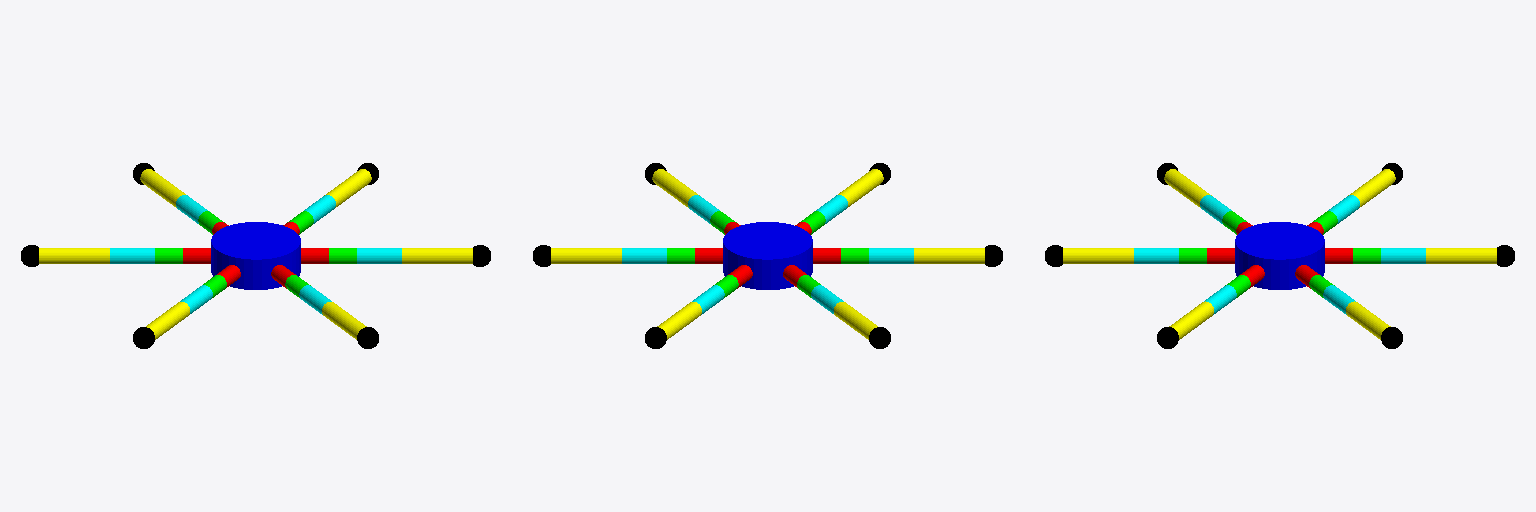
robot.urdf — hexapod:

<robot name="hexapod">

  <link name="body">
    <visual>
      <geometry>
        <cylinder radius="0.08" length="0.06"/>
      </geometry>
      <origin xyz="0 0 0"/>
      <material name="blue">
        <color rgba="0 0 1 1"/>
      </material>
    </visual>
    <collision>
      <geometry>
        <cylinder radius="0.08" length="0.06"/>
      </geometry>
      <origin xyz="0 0 0"/>
    </collision>
    <inertial>
      <mass value="0.01"/>
      <inertia ixx="0" ixy="0.0" ixz="0.0" iyy="0" iyz="0.0" izz="0"/>
    </inertial>
  </link>


  <link name="a1">
    <visual>
      <geometry>
        <cylinder radius="0.015" length="0.05"/>
      </geometry>
      <origin rpy="1.57 0 0" xyz="0 0.025 0" />
      <material name="red">
        <color rgba="1 0 0 1"/>
      </material>
    </visual>
    <collision>
      <geometry>
        <cylinder radius="0.015" length="0.05"/>
      </geometry>
      <origin rpy="1.57 0 0" xyz="0 0.025 0" />
    </collision>
    <inertial>
      <mass value="0.1"/>
      <inertia ixx="0" ixy="0.0" ixz="0.0" iyy="0" iyz="0.0" izz="0"/>
    </inertial>
  </link>

  <joint name="a1_to_body" type="fixed">
    <origin rpy="0 0 0" xyz="0 0.08 0"/>
    <parent link="body"/>
    <child link="a1"/>
  </joint>

  <!-- B -->

  <link name="b1">
    <visual>
      <geometry>
        <cylinder radius="0.015" length="0.05"/>
      </geometry>
      <origin rpy="1.57 0 0" xyz="0 0.025 0" />
      <material name="green">
        <color rgba="0 1 0 1"/>
      </material>
    </visual>
    <collision>
      <geometry>
        <cylinder radius="0.015" length="0.05"/>
      </geometry>
      <origin rpy="1.57 0 0" xyz="0 0.025 0" />
    </collision>
    <inertial>
      <mass value="0.1"/>
      <inertia ixx="0" ixy="0.0" ixz="0.0" iyy="0" iyz="0.0" izz="0"/>
    </inertial>

  </link>

  <joint name="u1" type="continuous">
    <origin rpy="0 0 0" xyz="0 0.05 0"/>
    <parent link="a1"/>
    <child link="b1"/>
    <axis xyz="0 0 1"/>
    <limit effort="1000" lower="-1.57" upper="1.57" velocity="1000"/>
  </joint>

  <link name="c1">
    <visual>
      <geometry>
        <cylinder radius="0.015" length="0.08"/>
      </geometry>
      <origin rpy="1.57 0 0" xyz="0 0.04 0" />
      <material name="cyan">
        <color rgba="0 1 1 1"/>
      </material>
    </visual>
    <collision>
      <geometry>
        <cylinder radius="0.015" length="0.08"/>
      </geometry>
      <origin rpy="1.57 0 0" xyz="0 0.04 0" />
    </collision>
    <inertial>
      <mass value="0.1"/>
      <inertia ixx="0" ixy="0.0" ixz="0.0" iyy="0" iyz="0.0" izz="0"/>
    </inertial>

  </link>

  <joint name="v1" type="continuous">
    <origin rpy="0 0 0" xyz="0 0.05 0"/>
    <parent link="b1"/>
    <child link="c1"/>
    <axis xyz="1 0 0"/>
    <limit effort="1000" lower="-1.57" upper="1.57" velocity="1000"/>
  </joint>

  <link name="d1">
    <visual>
      <geometry>
        <cylinder radius="0.015" length="0.14"/>
      </geometry>
      <origin rpy="1.57 0 0" xyz="0 0.07 0" />
      <material name="jaune">
        <color rgba="1 1 0 1"/>
      </material>
    </visual>
    <collision>
      <geometry>
        <cylinder radius="0.015" length="0.14"/>
      </geometry>
      <origin rpy="1.57 0 0" xyz="0 0.07 0" />
    </collision>
    <inertial>
      <mass value="0.1"/>
      <inertia ixx="0" ixy="0.0" ixz="0.0" iyy="0" iyz="0.0" izz="0"/>
    </inertial>

  </link>

  <joint name="w1" type="continuous">
    <origin rpy="0 0 0" xyz="0 0.08 0"/>
    <parent link="c1"/>
    <child link="d1"/>
    <axis xyz="1 0 0"/>
    <limit effort="1000" lower="-3.14159" upper="1.57" velocity="1000"/>
  </joint>

  <link name="e1">
    <visual>
      <geometry>
        <sphere radius="0.02"/>
      </geometry>
      <origin rpy="0 0 0" xyz="0 0 0" />
      <material name="noir">
        <color rgba="0 0 0 1"/>
      </material>
    </visual>
    <collision>
      <geometry>
        <sphere radius="0.02"/>
      </geometry>
      <origin rpy="0 0 0" xyz="0 0 0" />
    </collision>
    <inertial>
      <mass value="0.01"/>
      <inertia ixx="0" ixy="0.0" ixz="0.0" iyy="0" iyz="0.0" izz="0"/>
    </inertial>

  </link>

  <joint name="x1" type="fixed">
    <origin rpy="0 0 0" xyz="0 0.14 0"/>
    <parent link="d1"/>
    <child link="e1"/>
  </joint>


  <link name="a2">
    <visual>
      <geometry>
        <cylinder radius="0.015" length="0.05"/>
      </geometry>
      <origin rpy="1.57 0 0" xyz="0 0.025 0" />
      <material name="red">
        <color rgba="1 0 0 1"/>
      </material>
    </visual>
    <collision>
      <geometry>
        <cylinder radius="0.015" length="0.05"/>
      </geometry>
      <origin rpy="1.57 0 0" xyz="0 0.025 0" />
    </collision>
    <inertial>
      <mass value="0.1"/>
      <inertia ixx="0" ixy="0.0" ixz="0.0" iyy="0" iyz="0.0" izz="0"/>
    </inertial>
  </link>

  <joint name="a2_to_body" type="fixed">
    <origin rpy="0 0 -1.0472" xyz="0.069 0.04 0"/>
    <parent link="body"/>
    <child link="a2"/>
  </joint>

  <!-- B -->

  <link name="b2">
    <visual>
      <geometry>
        <cylinder radius="0.015" length="0.05"/>
      </geometry>
      <origin rpy="1.57 0 0" xyz="0 0.025 0" />
      <material name="green">
        <color rgba="0 1 0 1"/>
      </material>
    </visual>
    <collision>
      <geometry>
        <cylinder radius="0.015" length="0.05"/>
      </geometry>
      <origin rpy="1.57 0 0" xyz="0 0.025 0" />
    </collision>
    <inertial>
      <mass value="0.1"/>
      <inertia ixx="0" ixy="0.0" ixz="0.0" iyy="0" iyz="0.0" izz="0"/>
    </inertial>

  </link>

  <joint name="u2" type="continuous">
    <origin rpy="0 0 0" xyz="0 0.05 0"/>
    <parent link="a2"/>
    <child link="b2"/>
    <axis xyz="0 0 1"/>
    <limit effort="1000" lower="-1.57" upper="1.57" velocity="1000"/>
  </joint>

  <link name="c2">
    <visual>
      <geometry>
        <cylinder radius="0.015" length="0.08"/>
      </geometry>
      <origin rpy="1.57 0 0" xyz="0 0.04 0" />
      <material name="cyan">
        <color rgba="0 1 1 1"/>
      </material>
    </visual>
    <collision>
      <geometry>
        <cylinder radius="0.015" length="0.08"/>
      </geometry>
      <origin rpy="1.57 0 0" xyz="0 0.04 0" />
    </collision>
    <inertial>
      <mass value="0.1"/>
      <inertia ixx="0" ixy="0.0" ixz="0.0" iyy="0" iyz="0.0" izz="0"/>
    </inertial>

  </link>

  <joint name="v2" type="continuous">
    <origin rpy="0 0 0" xyz="0 0.05 0"/>
    <parent link="b2"/>
    <child link="c2"/>
    <axis xyz="1 0 0"/>
    <limit effort="1000" lower="-1.57" upper="1.57" velocity="1000"/>
  </joint>

  <link name="d2">
    <visual>
      <geometry>
        <cylinder radius="0.015" length="0.14"/>
      </geometry>
      <origin rpy="1.57 0 0" xyz="0 0.07 0" />
      <material name="jaune">
        <color rgba="1 1 0 1"/>
      </material>
    </visual>
    <collision>
      <geometry>
        <cylinder radius="0.015" length="0.14"/>
      </geometry>
      <origin rpy="1.57 0 0" xyz="0 0.07 0" />
    </collision>
    <inertial>
      <mass value="0.1"/>
      <inertia ixx="0" ixy="0.0" ixz="0.0" iyy="0" iyz="0.0" izz="0"/>
    </inertial>

  </link>

  <joint name="w2" type="continuous">
    <origin rpy="0 0 0" xyz="0 0.08 0"/>
    <parent link="c2"/>
    <child link="d2"/>
    <axis xyz="1 0 0"/>
    <limit effort="1000" lower="-3.14159" upper="1.57" velocity="1000"/>
  </joint>

  <link name="e2">
    <visual>
      <geometry>
        <sphere radius="0.02"/>
      </geometry>
      <origin rpy="0 0 0" xyz="0 0 0" />
      <material name="noir">
        <color rgba="0 0 0 1"/>
      </material>
    </visual>
    <collision>
      <geometry>
        <sphere radius="0.02"/>
      </geometry>
      <origin rpy="0 0 0" xyz="0 0 0" />
    </collision>
    <inertial>
      <mass value="0.01"/>
      <inertia ixx="0" ixy="0.0" ixz="0.0" iyy="0" iyz="0.0" izz="0"/>
    </inertial>

  </link>

  <joint name="x2" type="fixed">
    <origin rpy="0 0 0" xyz="0 0.14 0"/>
    <parent link="d2"/>
    <child link="e2"/>
  </joint>


  <link name="a3">
    <visual>
      <geometry>
        <cylinder radius="0.015" length="0.05"/>
      </geometry>
      <origin rpy="1.57 0 0" xyz="0 0.025 0" />
      <material name="red">
        <color rgba="1 0 0 1"/>
      </material>
    </visual>
    <collision>
      <geometry>
        <cylinder radius="0.015" length="0.05"/>
      </geometry>
      <origin rpy="1.57 0 0" xyz="0 0.025 0" />
    </collision>
    <inertial>
      <mass value="0.1"/>
      <inertia ixx="0" ixy="0.0" ixz="0.0" iyy="0" iyz="0.0" izz="0"/>
    </inertial>
  </link>

  <joint name="a3_to_body" type="fixed">
    <origin rpy="0 0 -2.0944" xyz="0.069 -0.04 0"/>
    <parent link="body"/>
    <child link="a3"/>
  </joint>

  <!-- B -->

  <link name="b3">
    <visual>
      <geometry>
        <cylinder radius="0.015" length="0.05"/>
      </geometry>
      <origin rpy="1.57 0 0" xyz="0 0.025 0" />
      <material name="green">
        <color rgba="0 1 0 1"/>
      </material>
    </visual>
    <collision>
      <geometry>
        <cylinder radius="0.015" length="0.05"/>
      </geometry>
      <origin rpy="1.57 0 0" xyz="0 0.025 0" />
    </collision>
    <inertial>
      <mass value="0.1"/>
      <inertia ixx="0" ixy="0.0" ixz="0.0" iyy="0" iyz="0.0" izz="0"/>
    </inertial>

  </link>

  <joint name="u3" type="continuous">
    <origin rpy="0 0 0" xyz="0 0.05 0"/>
    <parent link="a3"/>
    <child link="b3"/>
    <axis xyz="0 0 1"/>
    <limit effort="1000" lower="-1.57" upper="1.57" velocity="1000"/>
  </joint>

  <link name="c3">
    <visual>
      <geometry>
        <cylinder radius="0.015" length="0.08"/>
      </geometry>
      <origin rpy="1.57 0 0" xyz="0 0.04 0" />
      <material name="cyan">
        <color rgba="0 1 1 1"/>
      </material>
    </visual>
    <collision>
      <geometry>
        <cylinder radius="0.015" length="0.08"/>
      </geometry>
      <origin rpy="1.57 0 0" xyz="0 0.04 0" />
    </collision>
    <inertial>
      <mass value="0.1"/>
      <inertia ixx="0" ixy="0.0" ixz="0.0" iyy="0" iyz="0.0" izz="0"/>
    </inertial>

  </link>

  <joint name="v3" type="continuous">
    <origin rpy="0 0 0" xyz="0 0.05 0"/>
    <parent link="b3"/>
    <child link="c3"/>
    <axis xyz="1 0 0"/>
    <limit effort="1000" lower="-1.57" upper="1.57" velocity="1000"/>
  </joint>

  <link name="d3">
    <visual>
      <geometry>
        <cylinder radius="0.015" length="0.14"/>
      </geometry>
      <origin rpy="1.57 0 0" xyz="0 0.07 0" />
      <material name="jaune">
        <color rgba="1 1 0 1"/>
      </material>
    </visual>
    <collision>
      <geometry>
        <cylinder radius="0.015" length="0.14"/>
      </geometry>
      <origin rpy="1.57 0 0" xyz="0 0.07 0" />
    </collision>
    <inertial>
      <mass value="0.1"/>
      <inertia ixx="0" ixy="0.0" ixz="0.0" iyy="0" iyz="0.0" izz="0"/>
    </inertial>

  </link>

  <joint name="w3" type="continuous">
    <origin rpy="0 0 0" xyz="0 0.08 0"/>
    <parent link="c3"/>
    <child link="d3"/>
    <axis xyz="1 0 0"/>
    <limit effort="1000" lower="-3.14159" upper="1.57" velocity="1000"/>
  </joint>

  <link name="e3">
    <visual>
      <geometry>
        <sphere radius="0.02"/>
      </geometry>
      <origin rpy="0 0 0" xyz="0 0 0" />
      <material name="noir">
        <color rgba="0 0 0 1"/>
      </material>
    </visual>
    <collision>
      <geometry>
        <sphere radius="0.02"/>
      </geometry>
      <origin rpy="0 0 0" xyz="0 0 0" />
    </collision>
    <inertial>
      <mass value="0.01"/>
      <inertia ixx="0" ixy="0.0" ixz="0.0" iyy="0" iyz="0.0" izz="0"/>
    </inertial>

  </link>

  <joint name="x3" type="fixed">
    <origin rpy="0 0 0" xyz="0 0.14 0"/>
    <parent link="d3"/>
    <child link="e3"/>
  </joint>


  <link name="a4">
    <visual>
      <geometry>
        <cylinder radius="0.015" length="0.05"/>
      </geometry>
      <origin rpy="1.57 0 0" xyz="0 0.025 0" />
      <material name="red">
        <color rgba="1 0 0 1"/>
      </material>
    </visual>
    <collision>
      <geometry>
        <cylinder radius="0.015" length="0.05"/>
      </geometry>
      <origin rpy="1.57 0 0" xyz="0 0.025 0" />
    </collision>
    <inertial>
      <mass value="0.1"/>
      <inertia ixx="0" ixy="0.0" ixz="0.0" iyy="0" iyz="0.0" izz="0"/>
    </inertial>
  </link>

  <joint name="a4_to_body" type="fixed">
    <origin rpy="0 0 -3.1416" xyz="0.0 -0.08 0"/>
    <parent link="body"/>
    <child link="a4"/>
  </joint>

  <!-- B -->

  <link name="b4">
    <visual>
      <geometry>
        <cylinder radius="0.015" length="0.05"/>
      </geometry>
      <origin rpy="1.57 0 0" xyz="0 0.025 0" />
      <material name="green">
        <color rgba="0 1 0 1"/>
      </material>
    </visual>
    <collision>
      <geometry>
        <cylinder radius="0.015" length="0.05"/>
      </geometry>
      <origin rpy="1.57 0 0" xyz="0 0.025 0" />
    </collision>
    <inertial>
      <mass value="0.1"/>
      <inertia ixx="0" ixy="0.0" ixz="0.0" iyy="0" iyz="0.0" izz="0"/>
    </inertial>

  </link>

  <joint name="u4" type="continuous">
    <origin rpy="0 0 0" xyz="0 0.05 0"/>
    <parent link="a4"/>
    <child link="b4"/>
    <axis xyz="0 0 1"/>
    <limit effort="1000" lower="-1.57" upper="1.57" velocity="1000"/>
  </joint>

  <link name="c4">
    <visual>
      <geometry>
        <cylinder radius="0.015" length="0.08"/>
      </geometry>
      <origin rpy="1.57 0 0" xyz="0 0.04 0" />
      <material name="cyan">
        <color rgba="0 1 1 1"/>
      </material>
    </visual>
    <collision>
      <geometry>
        <cylinder radius="0.015" length="0.08"/>
      </geometry>
      <origin rpy="1.57 0 0" xyz="0 0.04 0" />
    </collision>
    <inertial>
      <mass value="0.1"/>
      <inertia ixx="0" ixy="0.0" ixz="0.0" iyy="0" iyz="0.0" izz="0"/>
    </inertial>

  </link>

  <joint name="v4" type="continuous">
    <origin rpy="0 0 0" xyz="0 0.05 0"/>
    <parent link="b4"/>
    <child link="c4"/>
    <axis xyz="1 0 0"/>
    <limit effort="1000" lower="-1.57" upper="1.57" velocity="1000"/>
  </joint>

  <link name="d4">
    <visual>
      <geometry>
        <cylinder radius="0.015" length="0.14"/>
      </geometry>
      <origin rpy="1.57 0 0" xyz="0 0.07 0" />
      <material name="jaune">
        <color rgba="1 1 0 1"/>
      </material>
    </visual>
    <collision>
      <geometry>
        <cylinder radius="0.015" length="0.14"/>
      </geometry>
      <origin rpy="1.57 0 0" xyz="0 0.07 0" />
    </collision>
    <inertial>
      <mass value="0.1"/>
      <inertia ixx="0" ixy="0.0" ixz="0.0" iyy="0" iyz="0.0" izz="0"/>
    </inertial>

  </link>

  <joint name="w4" type="continuous">
    <origin rpy="0 0 0" xyz="0 0.08 0"/>
    <parent link="c4"/>
    <child link="d4"/>
    <axis xyz="1 0 0"/>
    <limit effort="1000" lower="-3.14159" upper="1.57" velocity="1000"/>
  </joint>

  <link name="e4">
    <visual>
      <geometry>
        <sphere radius="0.02"/>
      </geometry>
      <origin rpy="0 0 0" xyz="0 0 0" />
      <material name="noir">
        <color rgba="0 0 0 1"/>
      </material>
    </visual>
    <collision>
      <geometry>
        <sphere radius="0.02"/>
      </geometry>
      <origin rpy="0 0 0" xyz="0 0 0" />
    </collision>
    <inertial>
      <mass value="0.01"/>
      <inertia ixx="0" ixy="0.0" ixz="0.0" iyy="0" iyz="0.0" izz="0"/>
    </inertial>

  </link>

  <joint name="x4" type="fixed">
    <origin rpy="0 0 0" xyz="0 0.14 0"/>
    <parent link="d4"/>
    <child link="e4"/>
  </joint>


  <link name="a5">
    <visual>
      <geometry>
        <cylinder radius="0.015" length="0.05"/>
      </geometry>
      <origin rpy="1.57 0 0" xyz="0 0.025 0" />
      <material name="red">
        <color rgba="1 0 0 1"/>
      </material>
    </visual>
    <collision>
      <geometry>
        <cylinder radius="0.015" length="0.05"/>
      </geometry>
      <origin rpy="1.57 0 0" xyz="0 0.025 0" />
    </collision>
    <inertial>
      <mass value="0.1"/>
      <inertia ixx="0" ixy="0.0" ixz="0.0" iyy="0" iyz="0.0" izz="0"/>
    </inertial>
  </link>

  <joint name="a5_to_body" type="fixed">
    <origin rpy="0 0 2.0944" xyz="-0.0693 -0.04 0"/>
    <parent link="body"/>
    <child link="a5"/>
  </joint>

  <!-- B -->

  <link name="b5">
    <visual>
      <geometry>
        <cylinder radius="0.015" length="0.05"/>
      </geometry>
      <origin rpy="1.57 0 0" xyz="0 0.025 0" />
      <material name="green">
        <color rgba="0 1 0 1"/>
      </material>
    </visual>
    <collision>
      <geometry>
        <cylinder radius="0.015" length="0.05"/>
      </geometry>
      <origin rpy="1.57 0 0" xyz="0 0.025 0" />
    </collision>
    <inertial>
      <mass value="0.1"/>
      <inertia ixx="0" ixy="0.0" ixz="0.0" iyy="0" iyz="0.0" izz="0"/>
    </inertial>

  </link>

  <joint name="u5" type="continuous">
    <origin rpy="0 0 0" xyz="0 0.05 0"/>
    <parent link="a5"/>
    <child link="b5"/>
    <axis xyz="0 0 1"/>
    <limit effort="1000" lower="-1.57" upper="1.57" velocity="1000"/>
  </joint>

  <link name="c5">
    <visual>
      <geometry>
        <cylinder radius="0.015" length="0.08"/>
      </geometry>
      <origin rpy="1.57 0 0" xyz="0 0.04 0" />
      <material name="cyan">
        <color rgba="0 1 1 1"/>
      </material>
    </visual>
    <collision>
      <geometry>
        <cylinder radius="0.015" length="0.08"/>
      </geometry>
      <origin rpy="1.57 0 0" xyz="0 0.04 0" />
    </collision>
    <inertial>
      <mass value="0.1"/>
      <inertia ixx="0" ixy="0.0" ixz="0.0" iyy="0" iyz="0.0" izz="0"/>
    </inertial>

  </link>

  <joint name="v5" type="continuous">
    <origin rpy="0 0 0" xyz="0 0.05 0"/>
    <parent link="b5"/>
    <child link="c5"/>
    <axis xyz="1 0 0"/>
    <limit effort="1000" lower="-1.57" upper="1.57" velocity="1000"/>
  </joint>

  <link name="d5">
    <visual>
      <geometry>
        <cylinder radius="0.015" length="0.14"/>
      </geometry>
      <origin rpy="1.57 0 0" xyz="0 0.07 0" />
      <material name="jaune">
        <color rgba="1 1 0 1"/>
      </material>
    </visual>
    <collision>
      <geometry>
        <cylinder radius="0.015" length="0.14"/>
      </geometry>
      <origin rpy="1.57 0 0" xyz="0 0.07 0" />
    </collision>
    <inertial>
      <mass value="0.1"/>
      <inertia ixx="0" ixy="0.0" ixz="0.0" iyy="0" iyz="0.0" izz="0"/>
    </inertial>

  </link>

  <joint name="w5" type="continuous">
    <origin rpy="0 0 0" xyz="0 0.08 0"/>
    <parent link="c5"/>
    <child link="d5"/>
    <axis xyz="1 0 0"/>
    <limit effort="1000" lower="-3.14159" upper="1.57" velocity="1000"/>
  </joint>

  <link name="e5">
    <visual>
      <geometry>
        <sphere radius="0.02"/>
      </geometry>
      <origin rpy="0 0 0" xyz="0 0 0" />
      <material name="noir">
        <color rgba="0 0 0 1"/>
      </material>
    </visual>
    <collision>
      <geometry>
        <sphere radius="0.02"/>
      </geometry>
      <origin rpy="0 0 0" xyz="0 0 0" />
    </collision>
    <inertial>
      <mass value="0.01"/>
      <inertia ixx="0" ixy="0.0" ixz="0.0" iyy="0" iyz="0.0" izz="0"/>
    </inertial>

  </link>

  <joint name="x5" type="fixed">
    <origin rpy="0 0 0" xyz="0 0.14 0"/>
    <parent link="d5"/>
    <child link="e5"/>
  </joint>


  <link name="a6">
    <visual>
      <geometry>
        <cylinder radius="0.015" length="0.05"/>
      </geometry>
      <origin rpy="1.57 0 0" xyz="0 0.025 0" />
      <material name="red">
        <color rgba="1 0 0 1"/>
      </material>
    </visual>
    <collision>
      <geometry>
        <cylinder radius="0.015" length="0.05"/>
      </geometry>
      <origin rpy="1.57 0 0" xyz="0 0.025 0" />
    </collision>
    <inertial>
      <mass value="0.1"/>
      <inertia ixx="0" ixy="0.0" ixz="0.0" iyy="0" iyz="0.0" izz="0"/>
    </inertial>
  </link>

  <joint name="a6_to_body" type="fixed">
    <origin rpy="0 0 1.0472" xyz="-0.0693 0.04 0"/>
    <parent link="body"/>
    <child link="a6"/>
  </joint>

  <!-- B -->

  <link name="b6">
    <visual>
      <geometry>
        <cylinder radius="0.015" length="0.05"/>
      </geometry>
      <origin rpy="1.57 0 0" xyz="0 0.025 0" />
      <material name="green">
        <color rgba="0 1 0 1"/>
      </material>
    </visual>
    <collision>
      <geometry>
        <cylinder radius="0.015" length="0.05"/>
      </geometry>
      <origin rpy="1.57 0 0" xyz="0 0.025 0" />
    </collision>
    <inertial>
      <mass value="0.1"/>
      <inertia ixx="0" ixy="0.0" ixz="0.0" iyy="0" iyz="0.0" izz="0"/>
    </inertial>

  </link>

  <joint name="u6" type="continuous">
    <origin rpy="0 0 0" xyz="0 0.05 0"/>
    <parent link="a6"/>
    <child link="b6"/>
    <axis xyz="0 0 1"/>
    <limit effort="1000" lower="-1.57" upper="1.57" velocity="1000"/>
  </joint>

  <link name="c6">
    <visual>
      <geometry>
        <cylinder radius="0.015" length="0.08"/>
      </geometry>
      <origin rpy="1.57 0 0" xyz="0 0.04 0" />
      <material name="cyan">
        <color rgba="0 1 1 1"/>
      </material>
    </visual>
    <collision>
      <geometry>
        <cylinder radius="0.015" length="0.08"/>
      </geometry>
      <origin rpy="1.57 0 0" xyz="0 0.04 0" />
    </collision>
    <inertial>
      <mass value="0.1"/>
      <inertia ixx="0" ixy="0.0" ixz="0.0" iyy="0" iyz="0.0" izz="0"/>
    </inertial>

  </link>

  <joint name="v6" type="continuous">
    <origin rpy="0 0 0" xyz="0 0.05 0"/>
    <parent link="b6"/>
    <child link="c6"/>
    <axis xyz="1 0 0"/>
    <limit effort="1000" lower="-1.57" upper="1.57" velocity="1000"/>
  </joint>

  <link name="d6">
    <visual>
      <geometry>
        <cylinder radius="0.015" length="0.14"/>
      </geometry>
      <origin rpy="1.57 0 0" xyz="0 0.07 0" />
      <material name="jaune">
        <color rgba="1 1 0 1"/>
      </material>
    </visual>
    <collision>
      <geometry>
        <cylinder radius="0.015" length="0.14"/>
      </geometry>
      <origin rpy="1.57 0 0" xyz="0 0.07 0" />
    </collision>
    <inertial>
      <mass value="0.1"/>
      <inertia ixx="0" ixy="0.0" ixz="0.0" iyy="0" iyz="0.0" izz="0"/>
    </inertial>

  </link>

  <joint name="w6" type="continuous">
    <origin rpy="0 0 0" xyz="0 0.08 0"/>
    <parent link="c6"/>
    <child link="d6"/>
    <axis xyz="1 0 0"/>
    <limit effort="1000" lower="-3.14159" upper="1.57" velocity="1000"/>
  </joint>

  <link name="e6">
    <visual>
      <geometry>
        <sphere radius="0.02"/>
      </geometry>
      <origin rpy="0 0 0" xyz="0 0 0" />
      <material name="noir">
        <color rgba="0 0 0 1"/>
      </material>
    </visual>
    <collision>
      <geometry>
        <sphere radius="0.02"/>
      </geometry>
      <origin rpy="0 0 0" xyz="0 0 0" />
    </collision>
    <inertial>
      <mass value="0.01"/>
      <inertia ixx="0" ixy="0.0" ixz="0.0" iyy="0" iyz="0.0" izz="0"/>
    </inertial>

  </link>

  <joint name="x6" type="fixed">
    <origin rpy="0 0 0" xyz="0 0.14 0"/>
    <parent link="d6"/>
    <child link="e6"/>
  </joint>

</robot>

--- Facts derived from the render (not from the file) ---
Views: 3 orthographic renders of the robot side by side, from view 1: azimuth 30°, elevation 25°; view 2: azimuth 150°, elevation 25°; view 3: azimuth 270°, elevation 25°.
Robot: hexapod — 31 links, 30 joints (18 continuous, 12 fixed); root link body; default pose: every joint at zero.
Links seen in each view (by area): view 1: body, d3, d6, d2, d1, d5, d4, c3, c6; view 2: body, d2, d5, d3, d4, d6, d1, c2, c5; view 3: body, d1, d4, d5, d6, d2, d3, c1, c4.
Boxes of the visible links, box(x1,y1,x2,y2) form: body: box(211, 222, 300, 289); d3: box(402, 248, 472, 263); d6: box(39, 248, 109, 263); d2: box(324, 169, 371, 207); d1: box(140, 169, 185, 207); d5: box(146, 302, 189, 339); d4: box(322, 302, 366, 339); c3: box(357, 248, 401, 263); c6: box(110, 248, 154, 263); body: box(723, 222, 812, 289); d2: box(551, 248, 621, 263); d5: box(914, 248, 984, 263); d3: box(652, 169, 699, 207); d4: box(838, 169, 883, 207); d6: box(834, 302, 877, 339); d1: box(657, 302, 701, 339); c2: box(622, 248, 666, 263); c5: box(869, 248, 913, 263); body: box(1235, 222, 1324, 289); d1: box(1426, 248, 1496, 263); d4: box(1063, 248, 1133, 263); d5: box(1164, 169, 1211, 207); d6: box(1348, 169, 1395, 207); d2: box(1346, 301, 1390, 339); d3: box(1169, 301, 1213, 339); c1: box(1381, 248, 1425, 263); c4: box(1134, 248, 1178, 263).
Size in the robot's own frame: 0.7325 by 0.84 by 0.06 metres.
Geometry: primitives only (box / cylinder / sphere), no mesh files.
